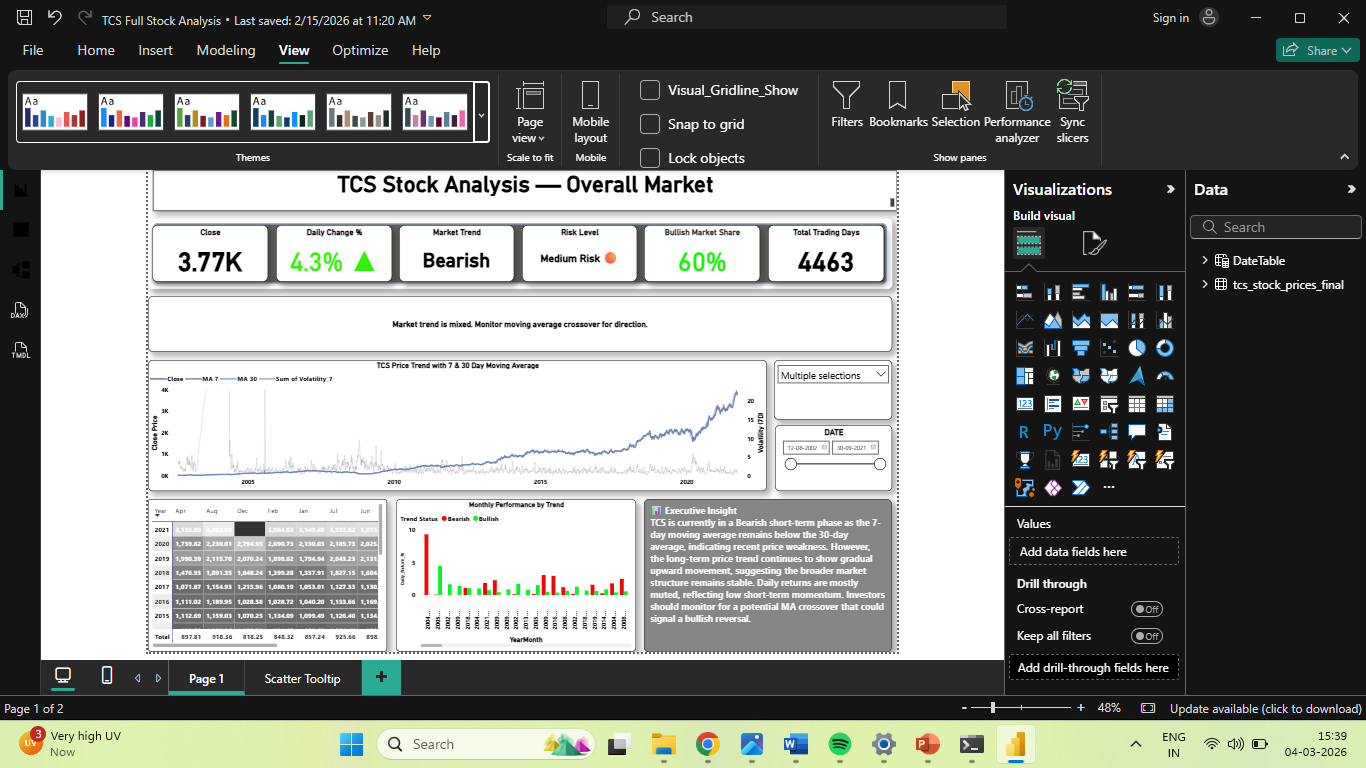

Layout of this report page (visuals, bound fields, positions):
{"tool":"powerbi","page":{"name":"Page 1","canvas":[1553,1000],"ordinal":0},"visuals":[{"type":"shape","box":[0,99.6,1543.6,147.3],"z":0},{"type":"card","title":"Close","fields":{"Values":["DateTable.Latest Close"]},"box":[8.3,114.1,240.7,118.3],"z":1000},{"type":"card","title":"Market Trend ","fields":{"Values":["Min(tcs_stock_prices_final.Trend Status)"]},"box":[521.2,114.1,238.6,118.3],"z":2000},{"type":"card","title":"Risk Level","fields":{"Values":["DateTable.Risk Level"]},"box":[775.5,114.1,238.6,118.3],"z":3000},{"type":"card","title":"Daily Change %","fields":{"Values":["DateTable.DoD Display"]},"box":[264.7,114.1,240.7,118.3],"z":4000},{"type":"lineChart","title":"TCS Price Trend with 7 & 30 Day Moving Average","fields":{"Category":["tcs_stock_prices_final.Date"],"Y":["Sum(tcs_stock_prices_final.Close)","DateTable.MA 7","DateTable.MA 30"],"Y2":["Sum(tcs_stock_prices_final.Volatility_7)"]},"box":[0,394.2,1284.2,271.8],"z":5000},{"type":"pivotTable","fields":{"Rows":["DateTable.Year"],"Columns":["DateTable.Month"],"Values":["DateTable.Monthly Avg Close"]},"box":[0,682.6,495.9,317.4],"z":6000},{"type":"card","title":"Total Trading Days","fields":{"Values":["DateTable.Total Trading Days"]},"box":[1286.3,114.1,240.7,118.3],"z":7000},{"type":"clusteredColumnChart","title":"Monthly Performance by Trend","fields":{"Category":["DateTable.YearMonth"],"Y":["Avg(tcs_stock_prices_final.Daily_Return_%)"],"Series":["tcs_stock_prices_final.Trend Status"]},"box":[514.5,682.6,497.9,317.4],"z":8000},{"type":"slicer","fields":{"Values":["tcs_stock_prices_final.Trend Status"]},"box":[1298.8,394.2,244.8,124.5],"z":9000},{"type":"textbox","box":[0,0,1543.6,85.1],"z":10000},{"type":"slicer","title":"DATE","fields":{"Values":["DateTable.Date"]},"box":[1300.8,529,242.7,136.9],"z":11000},{"type":"card","title":"Bullish Market Share","fields":{"Values":["DateTable.Bullish %"]},"box":[1029.9,114.1,240.7,118.3],"z":12000},{"type":"textbox","box":[1028.6,681.6,514.3,318.4],"z":14000},{"type":"card","fields":{"Values":["DateTable.Dynamic Insight"]},"box":[0,261.4,1543.6,116.2],"z":15000}]}

Visuals, with their boxes on the page's 1553x1000 design canvas (x1, y1, x2, y2). These are canvas units, not pixel positions in the 1366x768 screenshot, which may show the page scaled, cropped or inside an application window:
shape: left=0, top=100, right=1544, bottom=247
"Close" card: left=8, top=114, right=249, bottom=232
"Market Trend " card: left=521, top=114, right=760, bottom=232
"Risk Level" card: left=776, top=114, right=1014, bottom=232
"Daily Change %" card: left=265, top=114, right=505, bottom=232
"TCS Price Trend with 7 & 30 Day Moving Average" lineChart: left=0, top=394, right=1284, bottom=666
pivotTable - DateTable.Year x DateTable.Month: left=0, top=683, right=496, bottom=1000
"Total Trading Days" card: left=1286, top=114, right=1527, bottom=232
"Monthly Performance by Trend" clusteredColumnChart: left=514, top=683, right=1012, bottom=1000
slicer - tcs_stock_prices_final.Trend Status: left=1299, top=394, right=1544, bottom=519
textbox: left=0, top=0, right=1544, bottom=85
"DATE" slicer: left=1301, top=529, right=1544, bottom=666
"Bullish Market Share" card: left=1030, top=114, right=1271, bottom=232
textbox: left=1029, top=682, right=1543, bottom=1000
card - DateTable.Dynamic Insight: left=0, top=261, right=1544, bottom=378
